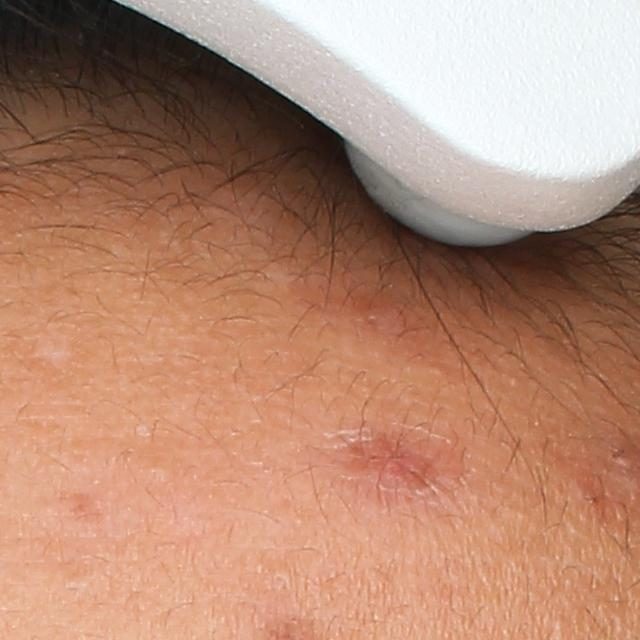comedo: (149, 458, 176, 486)
